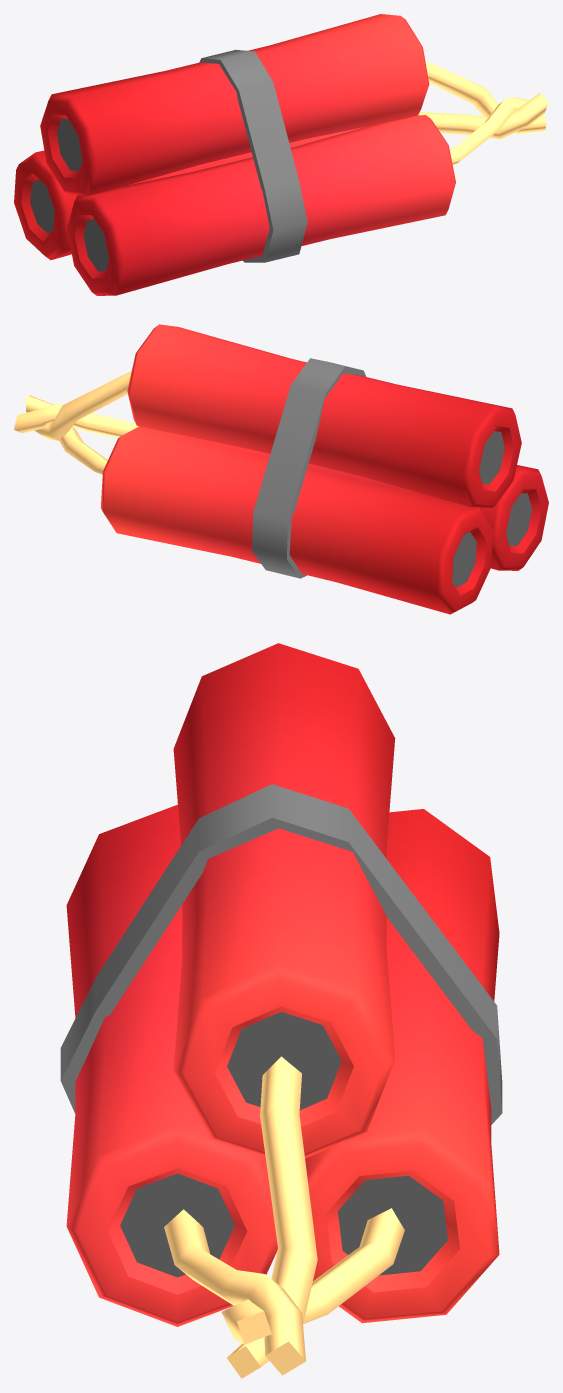
Rendered from dynamite_002.glb.
3 renders of one model, top to bottom at view 1: azimuth 30°, elevation 25°; view 2: azimuth 150°, elevation 25°; view 3: azimuth 270°, elevation 25°, orthographic. The views are drawn at different scales.
Parts seen in each view (by area): view 1: dynamite_002; view 2: dynamite_002; view 3: dynamite_002.
Part boxes in pixels (x1,y1,x2,y2): dynamite_002: (14,14,548,295); dynamite_002: (14,324,548,614); dynamite_002: (60,643,502,1378).
Size of the model in its own units: 1.57 by 0.5863 by 0.6342.
1 material, 1 textured.
